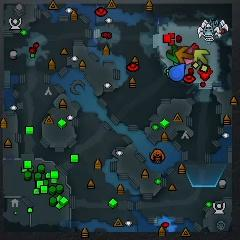p1: (169, 63, 186, 82)
x1: (183, 46, 194, 65)
x2: (193, 49, 209, 64)
x4: (166, 44, 180, 63)
x5: (176, 47, 192, 63)
